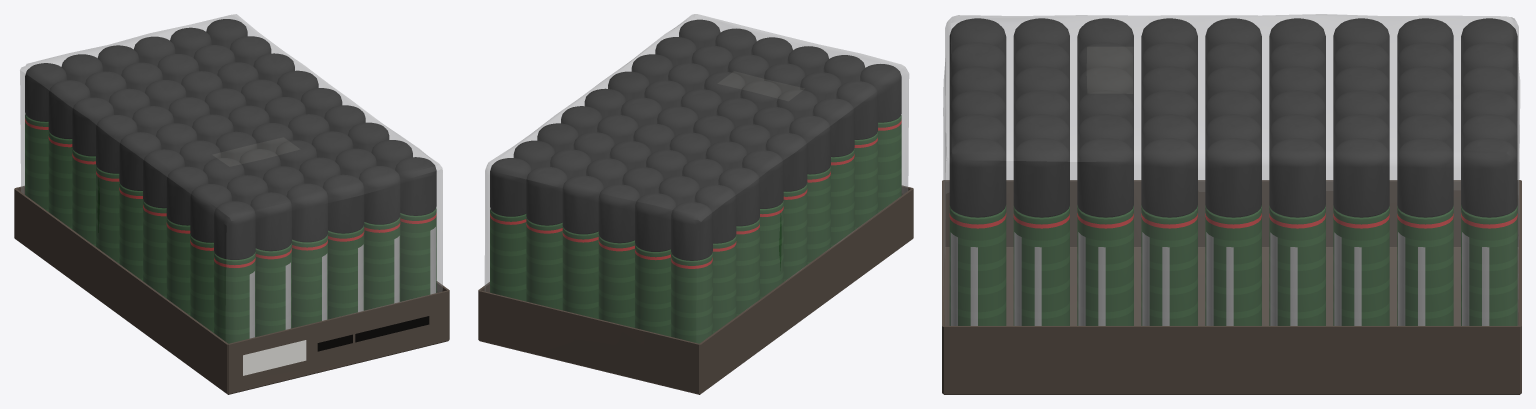
File: SM_SpayCan_Pk_Sealed_D.fbx
3 renders of one model, left to right at view 1: azimuth 30°, elevation 25°; view 2: azimuth 150°, elevation 25°; view 3: azimuth 270°, elevation 25°, orthographic. The views are drawn at different scales.
Visible parts, largest first — view 1: SM_SpayCan_Pk_Sealed_D; view 2: SM_SpayCan_Pk_Sealed_D; view 3: SM_SpayCan_Pk_Sealed_D.
Boxes of the visible parts, <box> form: SM_SpayCan_Pk_Sealed_D: <box>14,14,449,394</box>; SM_SpayCan_Pk_Sealed_D: <box>478,14,913,394</box>; SM_SpayCan_Pk_Sealed_D: <box>942,14,1521,394</box>.
Bounding box in the file's own units: 53.95 × 41.11 × 89.8.
